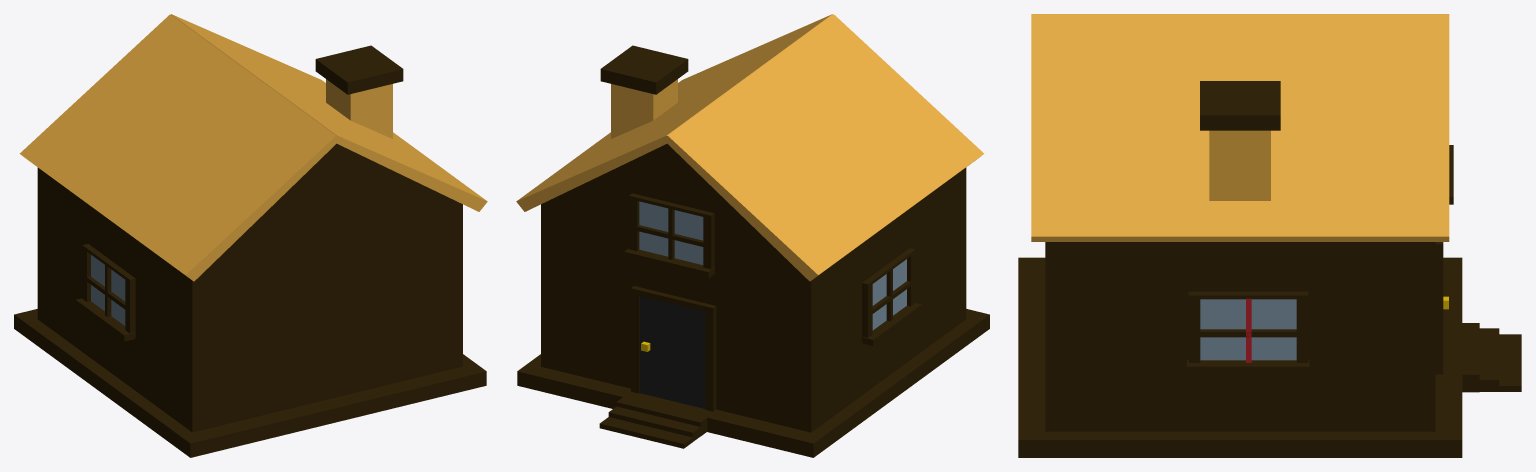
The model's file is Basic House Yellow Roof.fbx.
3 views of the same model, side by side, from view 1: azimuth 30°, elevation 25°; view 2: azimuth 150°, elevation 25°; view 3: azimuth 270°, elevation 25° (orthographic). The views are drawn at different scales.
Visible parts, largest first — view 1: pasted__pasted__pasted__pCube1 (×2), pasted__pasted__pCube1, pasted__pCube1 (×2), pCube1, pasted__pCube2, pCube2, pasted__pasted__pasted__pasted__pasted__pCube1 (×2), pasted__pasted__pasted__pasted__pCube1; view 2: pasted__pasted__pCube1 (×3), pasted__pCube1 (×5), pCube1, pasted__pasted__pasted__pasted__pCube1 (×2), pasted__pasted__pasted__pasted__pasted__pCube1 (×4), pasted__pCube2, pCube2, pasted__pasted__pasted__pCube1 (×2); view 3: pasted__pCube1 (×3), pasted__pasted__pCube1 (×3), pCube1, pasted__pasted__pasted__pCube1 (×3), pCube2, pasted__pCube2, pasted__pasted__pasted__pasted__pasted__pCube1, pasted__pCube3.
Boxes of the visible parts, <box> form: pasted__pasted__pasted__pCube1 (×2): <box>82,143,462,432</box>; pasted__pasted__pCube1: <box>19,14,340,281</box>; pasted__pCube1 (×2): <box>37,14,487,432</box>; pCube1: <box>14,309,486,457</box>; pasted__pCube2: <box>315,45,403,94</box>; pCube2: <box>326,79,392,138</box>; pasted__pasted__pasted__pasted__pasted__pCube1 (×2): <box>75,275,135,341</box>; pasted__pasted__pasted__pasted__pCube1: <box>91,255,125,325</box>; pasted__pasted__pCube1 (×3): <box>541,14,984,432</box>; pasted__pCube1 (×5): <box>516,14,966,448</box>; pCube1: <box>517,309,989,457</box>; pasted__pasted__pasted__pasted__pCube1 (×2): <box>639,201,906,330</box>; pasted__pasted__pasted__pasted__pasted__pCube1 (×4): <box>624,211,921,346</box>; pasted__pCube2: <box>600,45,688,94</box>; pCube2: <box>611,79,677,138</box>; pasted__pasted__pasted__pCube1 (×2): <box>629,193,910,341</box>; pasted__pCube1 (×3): <box>1031,14,1521,392</box>; pasted__pasted__pCube1 (×3): <box>1050,242,1435,431</box>; pCube1: <box>1018,257,1462,457</box>; pasted__pasted__pasted__pCube1 (×3): <box>1045,242,1308,431</box>; pCube2: <box>1209,130,1270,200</box>; pasted__pCube2: <box>1200,81,1280,130</box>; pasted__pasted__pasted__pasted__pasted__pCube1: <box>1187,360,1309,374</box>; pasted__pCube3: <box>1200,329,1297,337</box>.
Size of the model in its own units: 7.12 by 6.34 by 8.15.
